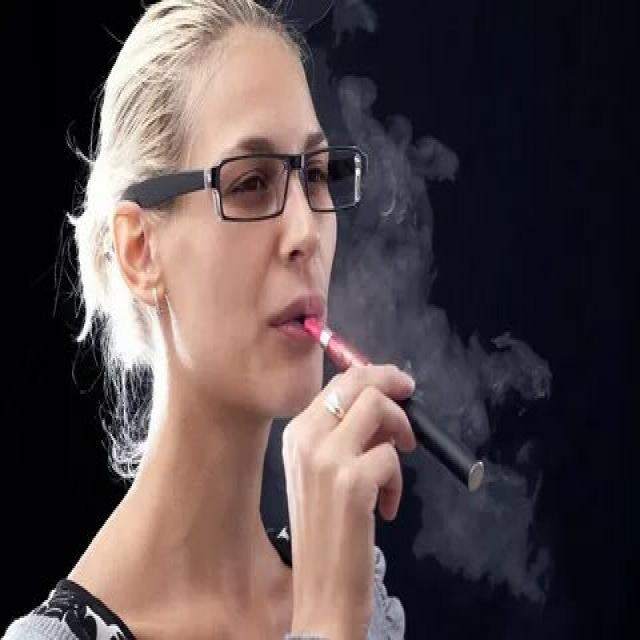smoke: (301, 308, 487, 496)
